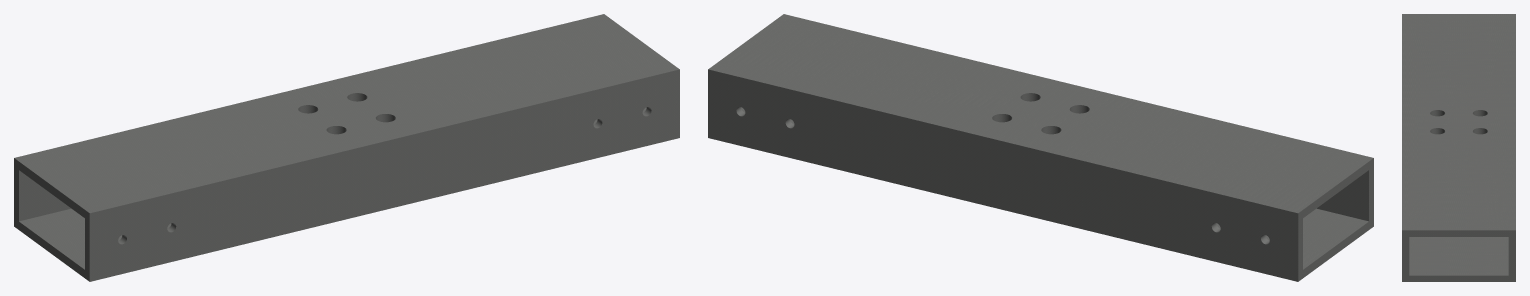
Rendered from jaco_mount.min.dae.
The picture shows the model from 3 angles, left to right: view 1: azimuth 30°, elevation 25°; view 2: azimuth 150°, elevation 25°; view 3: azimuth 270°, elevation 25°; orthographic projection. The views are drawn at different scales.
Parts seen in each view (by area): view 1: _3DGeom_28_Defintion (×5); view 2: _3DGeom_28_Defintion (×5); view 3: _3DGeom_28_Defintion (×7).
Part boxes in pixels (<box>): _3DGeom_28_Defintion (×5): <box>14,14,679,281</box>; _3DGeom_28_Defintion (×5): <box>708,14,1373,281</box>; _3DGeom_28_Defintion (×7): <box>1402,14,1515,281</box>.
Bounding box in the file's own units: 9 × 2 × 1.
Materials: 1 (1 with a texture image).
